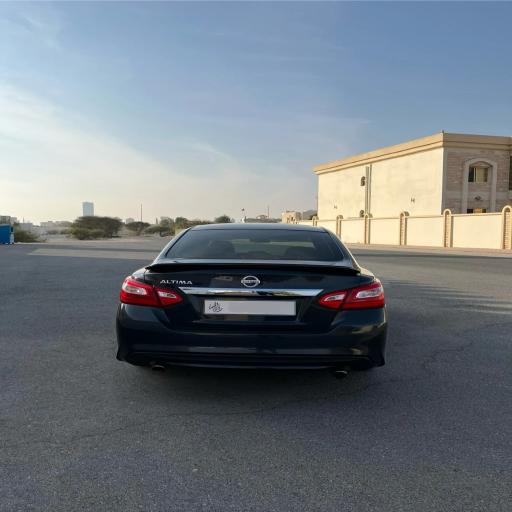license-plates: (204, 300, 295, 315)
